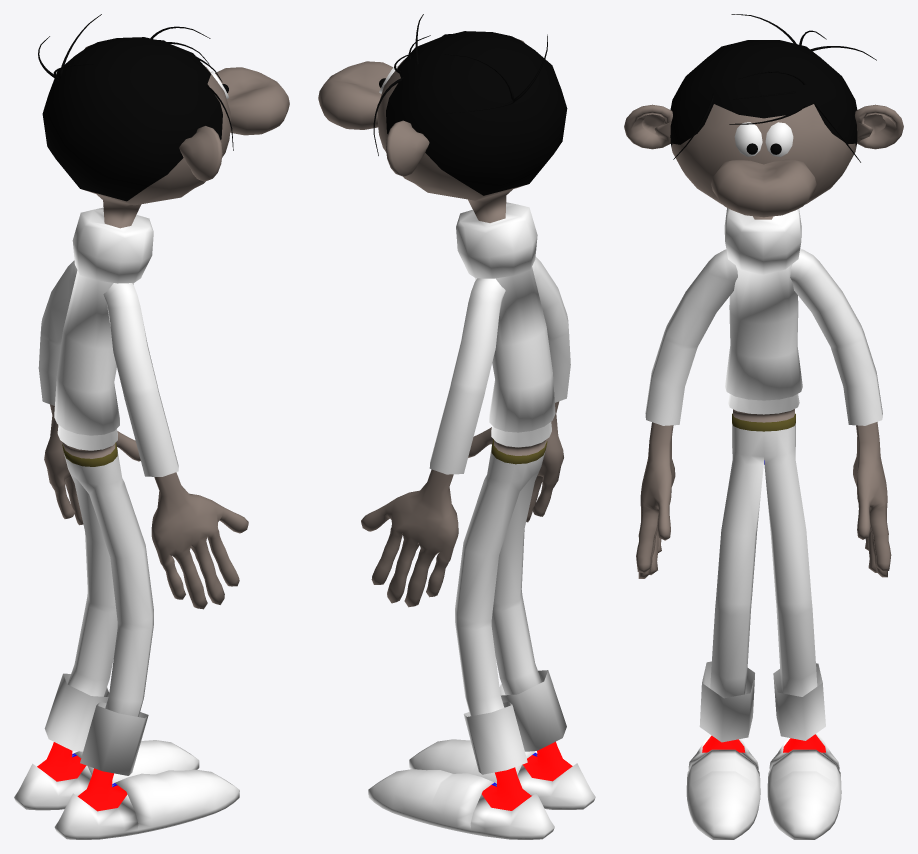
File: spectator_white_short.dae
The picture shows the model from 3 angles, left to right: view 1: azimuth 30°, elevation 25°; view 2: azimuth 150°, elevation 25°; view 3: azimuth 270°, elevation 25°; orthographic projection.
Parts seen in each view (by area): view 1: Spectator; view 2: Spectator; view 3: Spectator.
Boxes of the visible parts, box(x1,y1,x2,y2) form: Spectator: box(14, 14, 289, 839); Spectator: box(318, 14, 595, 839); Spectator: box(624, 14, 903, 839).
Bounding box in the file's own units: 0.4 × 0.4 × 1.2.
